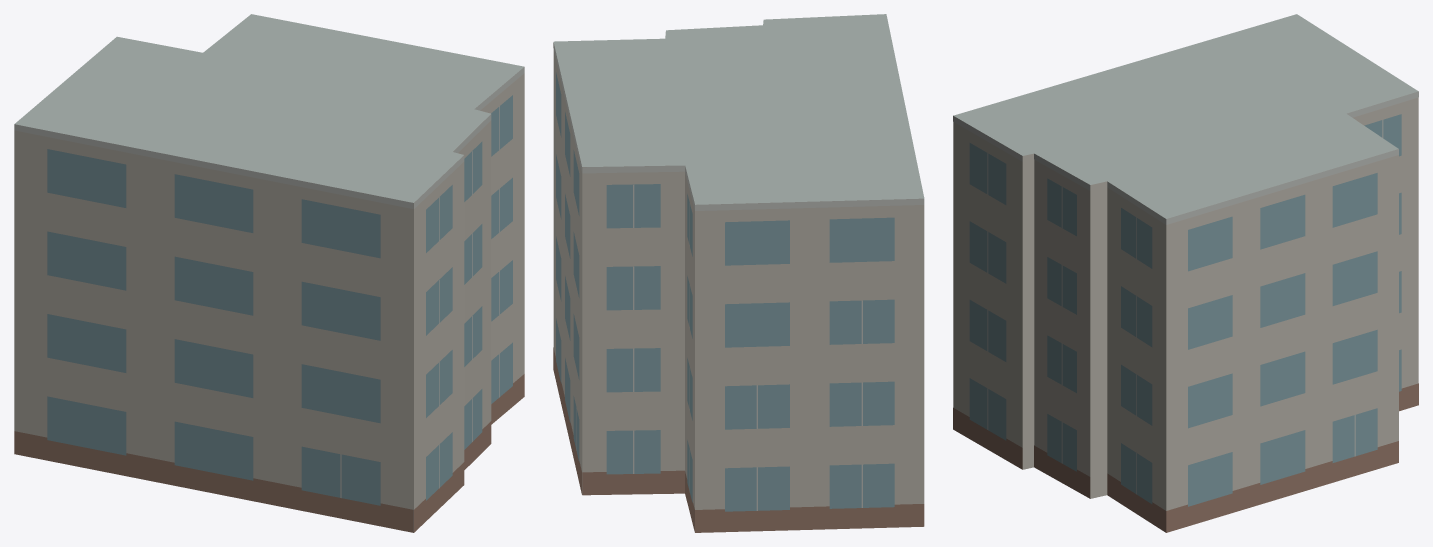
Rendered from survey-upis-32701822.glb.
The picture shows the model from 3 angles, left to right: view 1: azimuth 30°, elevation 25°; view 2: azimuth 150°, elevation 25°; view 3: azimuth 270°, elevation 25°; orthographic projection. The views are drawn at different scales.
Parts seen in each view (by area): view 1: survey-upis-32701822.tmp; view 2: survey-upis-32701822.tmp; view 3: survey-upis-32701822.tmp.
Boxes of the visible parts, x1,y1,x2,y2 form: survey-upis-32701822.tmp: (14, 14, 524, 532); survey-upis-32701822.tmp: (553, 14, 924, 532); survey-upis-32701822.tmp: (953, 14, 1418, 532).
Bounding box in the file's own units: 17.94 × 12.8 × 17.22.
